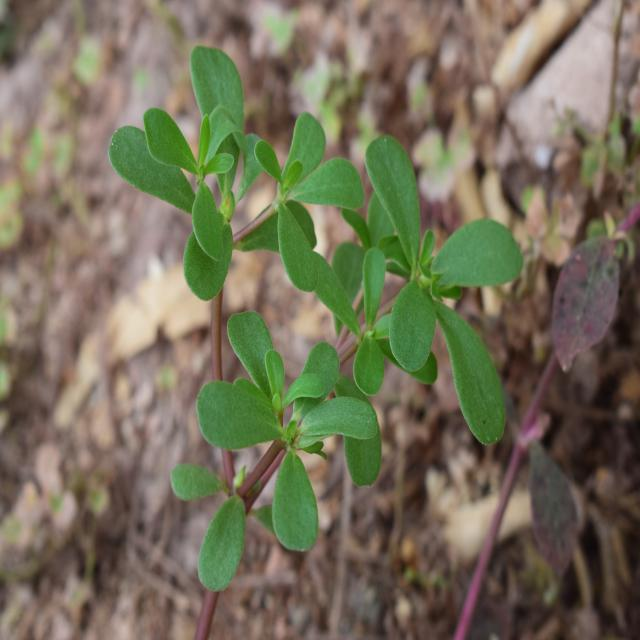purslane: (98, 42, 512, 590)
